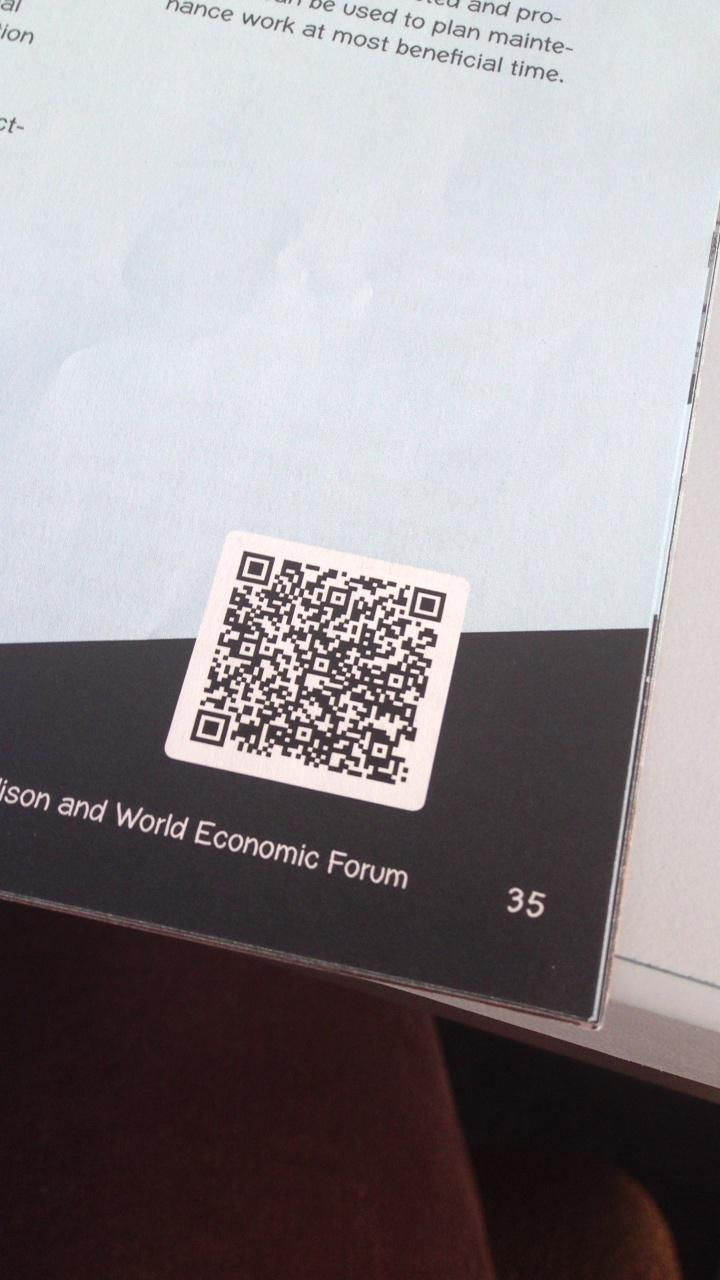Finder pattern: (188, 706, 233, 749), (406, 584, 450, 627), (233, 549, 277, 587)
